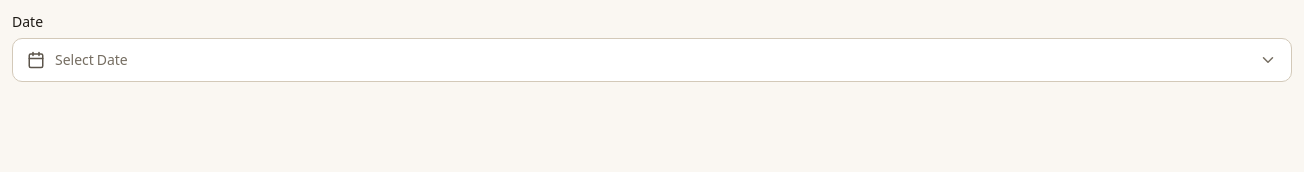
Scenario: Redesigned UI Primitives (Phase 2) › DatePicker › toggles calendar dialog on click and selects Today chip
Later steps or results of the test are not shown.
Click the button "Select Date": (91, 60) [12,38,1292,82]
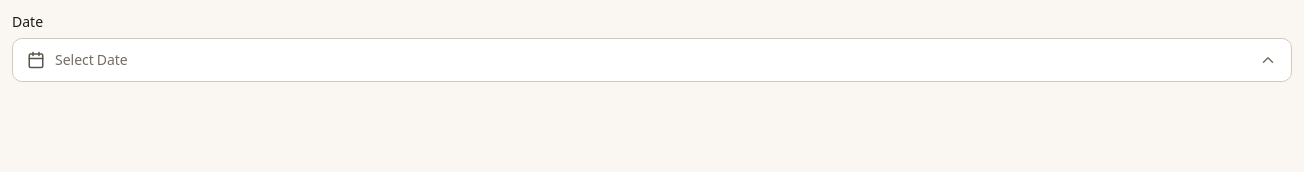
Now the button "Select Date" is expanded, box [12,38,1292,82]
